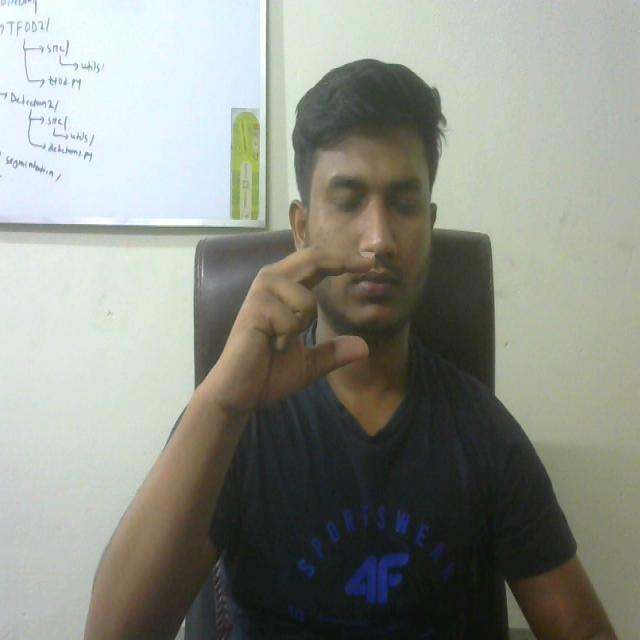No: (189, 231, 381, 430)
